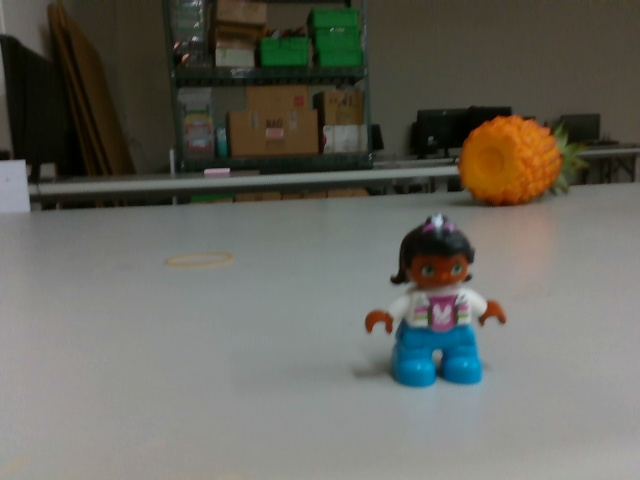people: (366, 218, 508, 389)
pineapple: (458, 113, 578, 205)
